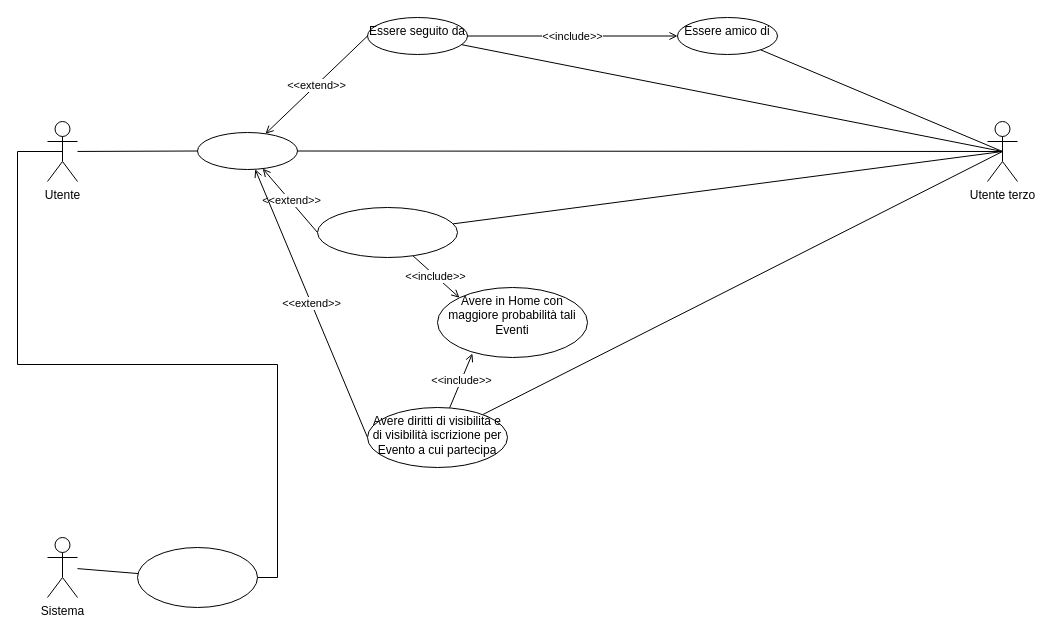
The diagram is 1052 pixels wide and 636 high, and some of its shapes have lost their labels. Each missing label, with the centre of its shape:
Avere diritti di visibilità per Evento organizzato da: pixel 387 232
Calcolare priorità visualizzazione Eventi in Home per ogni: pixel 197 577
Seguire: pixel 247 151
